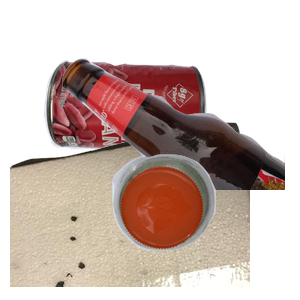glass: (60, 56, 300, 236)
metal: (41, 58, 240, 207)
plastic: (110, 152, 300, 300)
trash: (10, 120, 250, 300)
